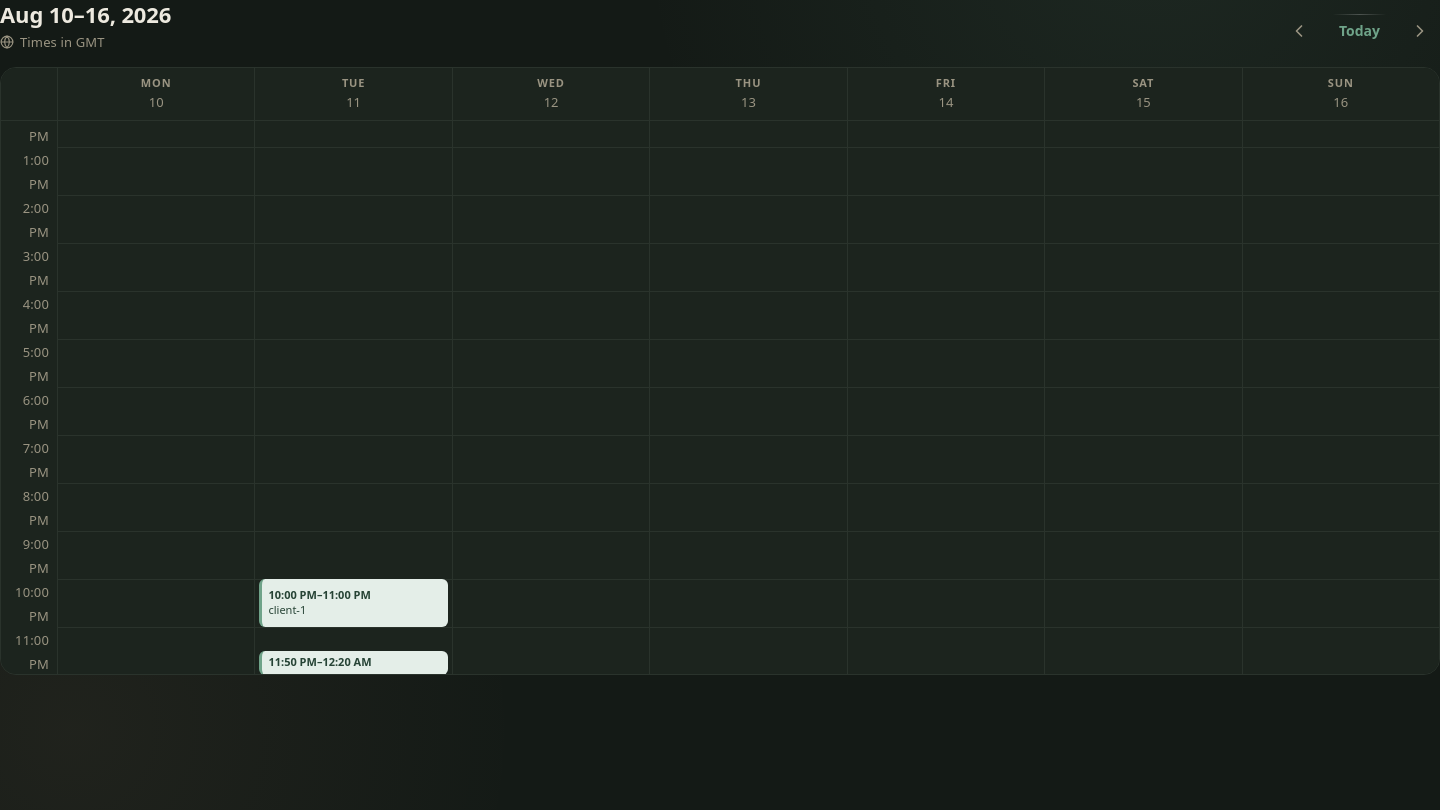
Scenario: WeekCalendar › keeps 03:00, 22:00 and 23:50 bookings visible and actionable
This screenshot has width=1440, height=810.
(page scrolled)
Click the button with aria-label "11:50 PM to 12:20 AM". click: (354, 663)
box: [259,651,448,675]
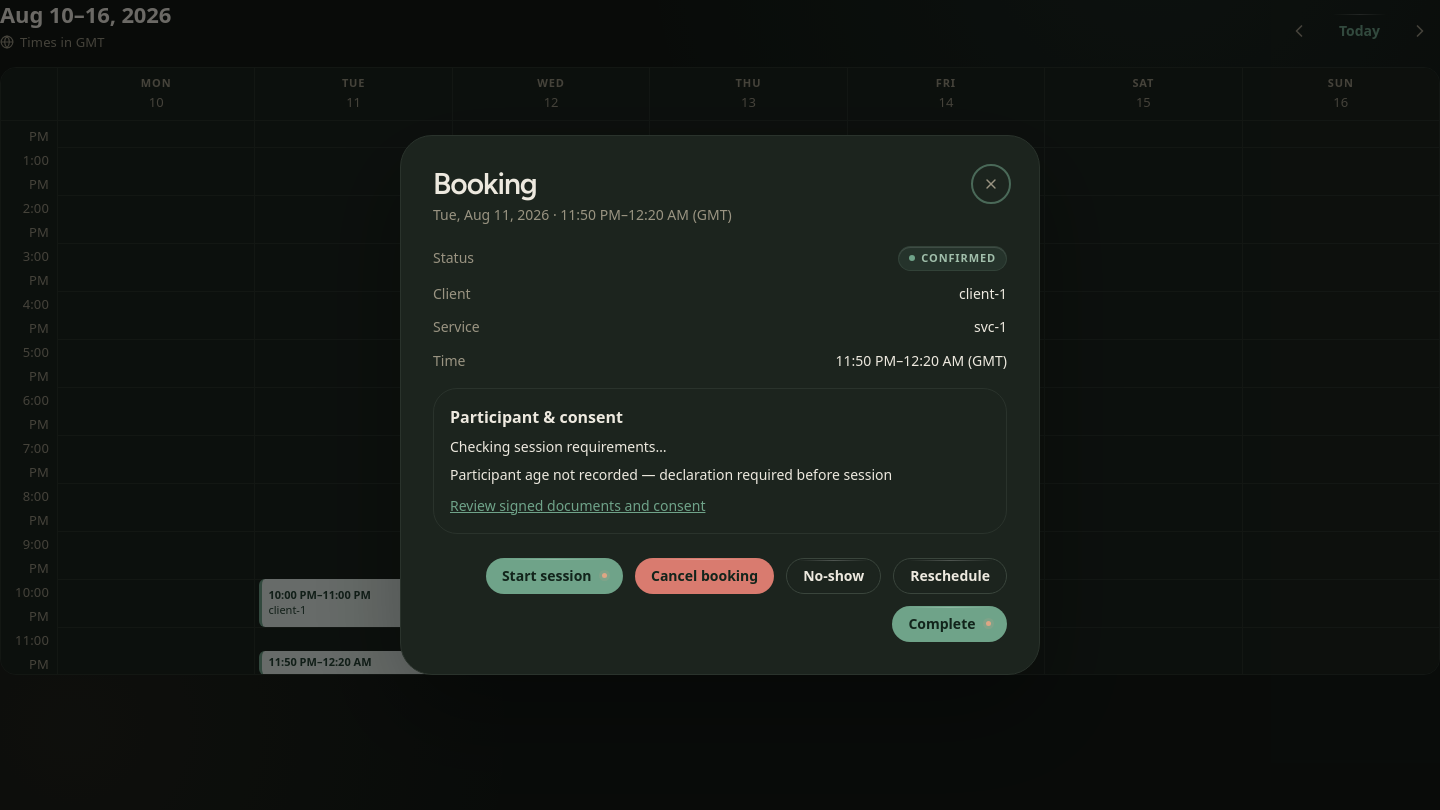
Expected: the dialog is shown, [400,135,1040,675]
